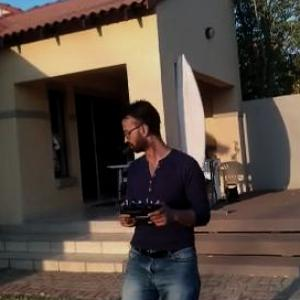follow: (112, 97, 212, 299)
